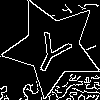Y: (27, 22, 78, 78)
